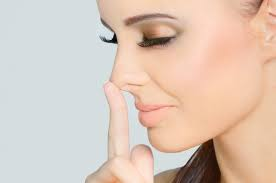n.sharp: (113, 35, 149, 87)
